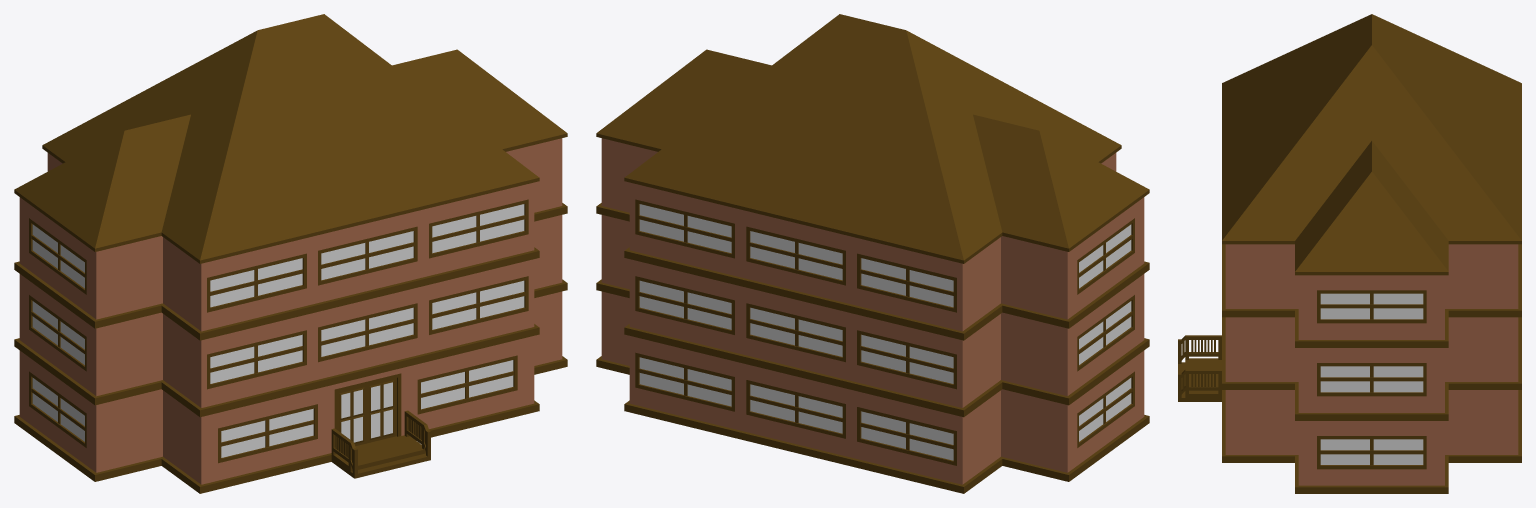
Rendered from medium buiding 10.fbx.
3 views of the same model, side by side, from view 1: azimuth 30°, elevation 25°; view 2: azimuth 150°, elevation 25°; view 3: azimuth 270°, elevation 25° (orthographic). The views are drawn at different scales.
Parts seen in each view (by area): view 1: building_001; view 2: building_001; view 3: building_001.
Part boxes in pixels (x1=…): building_001: x1=14, y1=14, x2=567, y2=493; building_001: x1=596, y1=14, x2=1149, y2=493; building_001: x1=1178, y1=14, x2=1521, y2=493.
Size of the model in its own units: 1420 by 1070 by 940.
